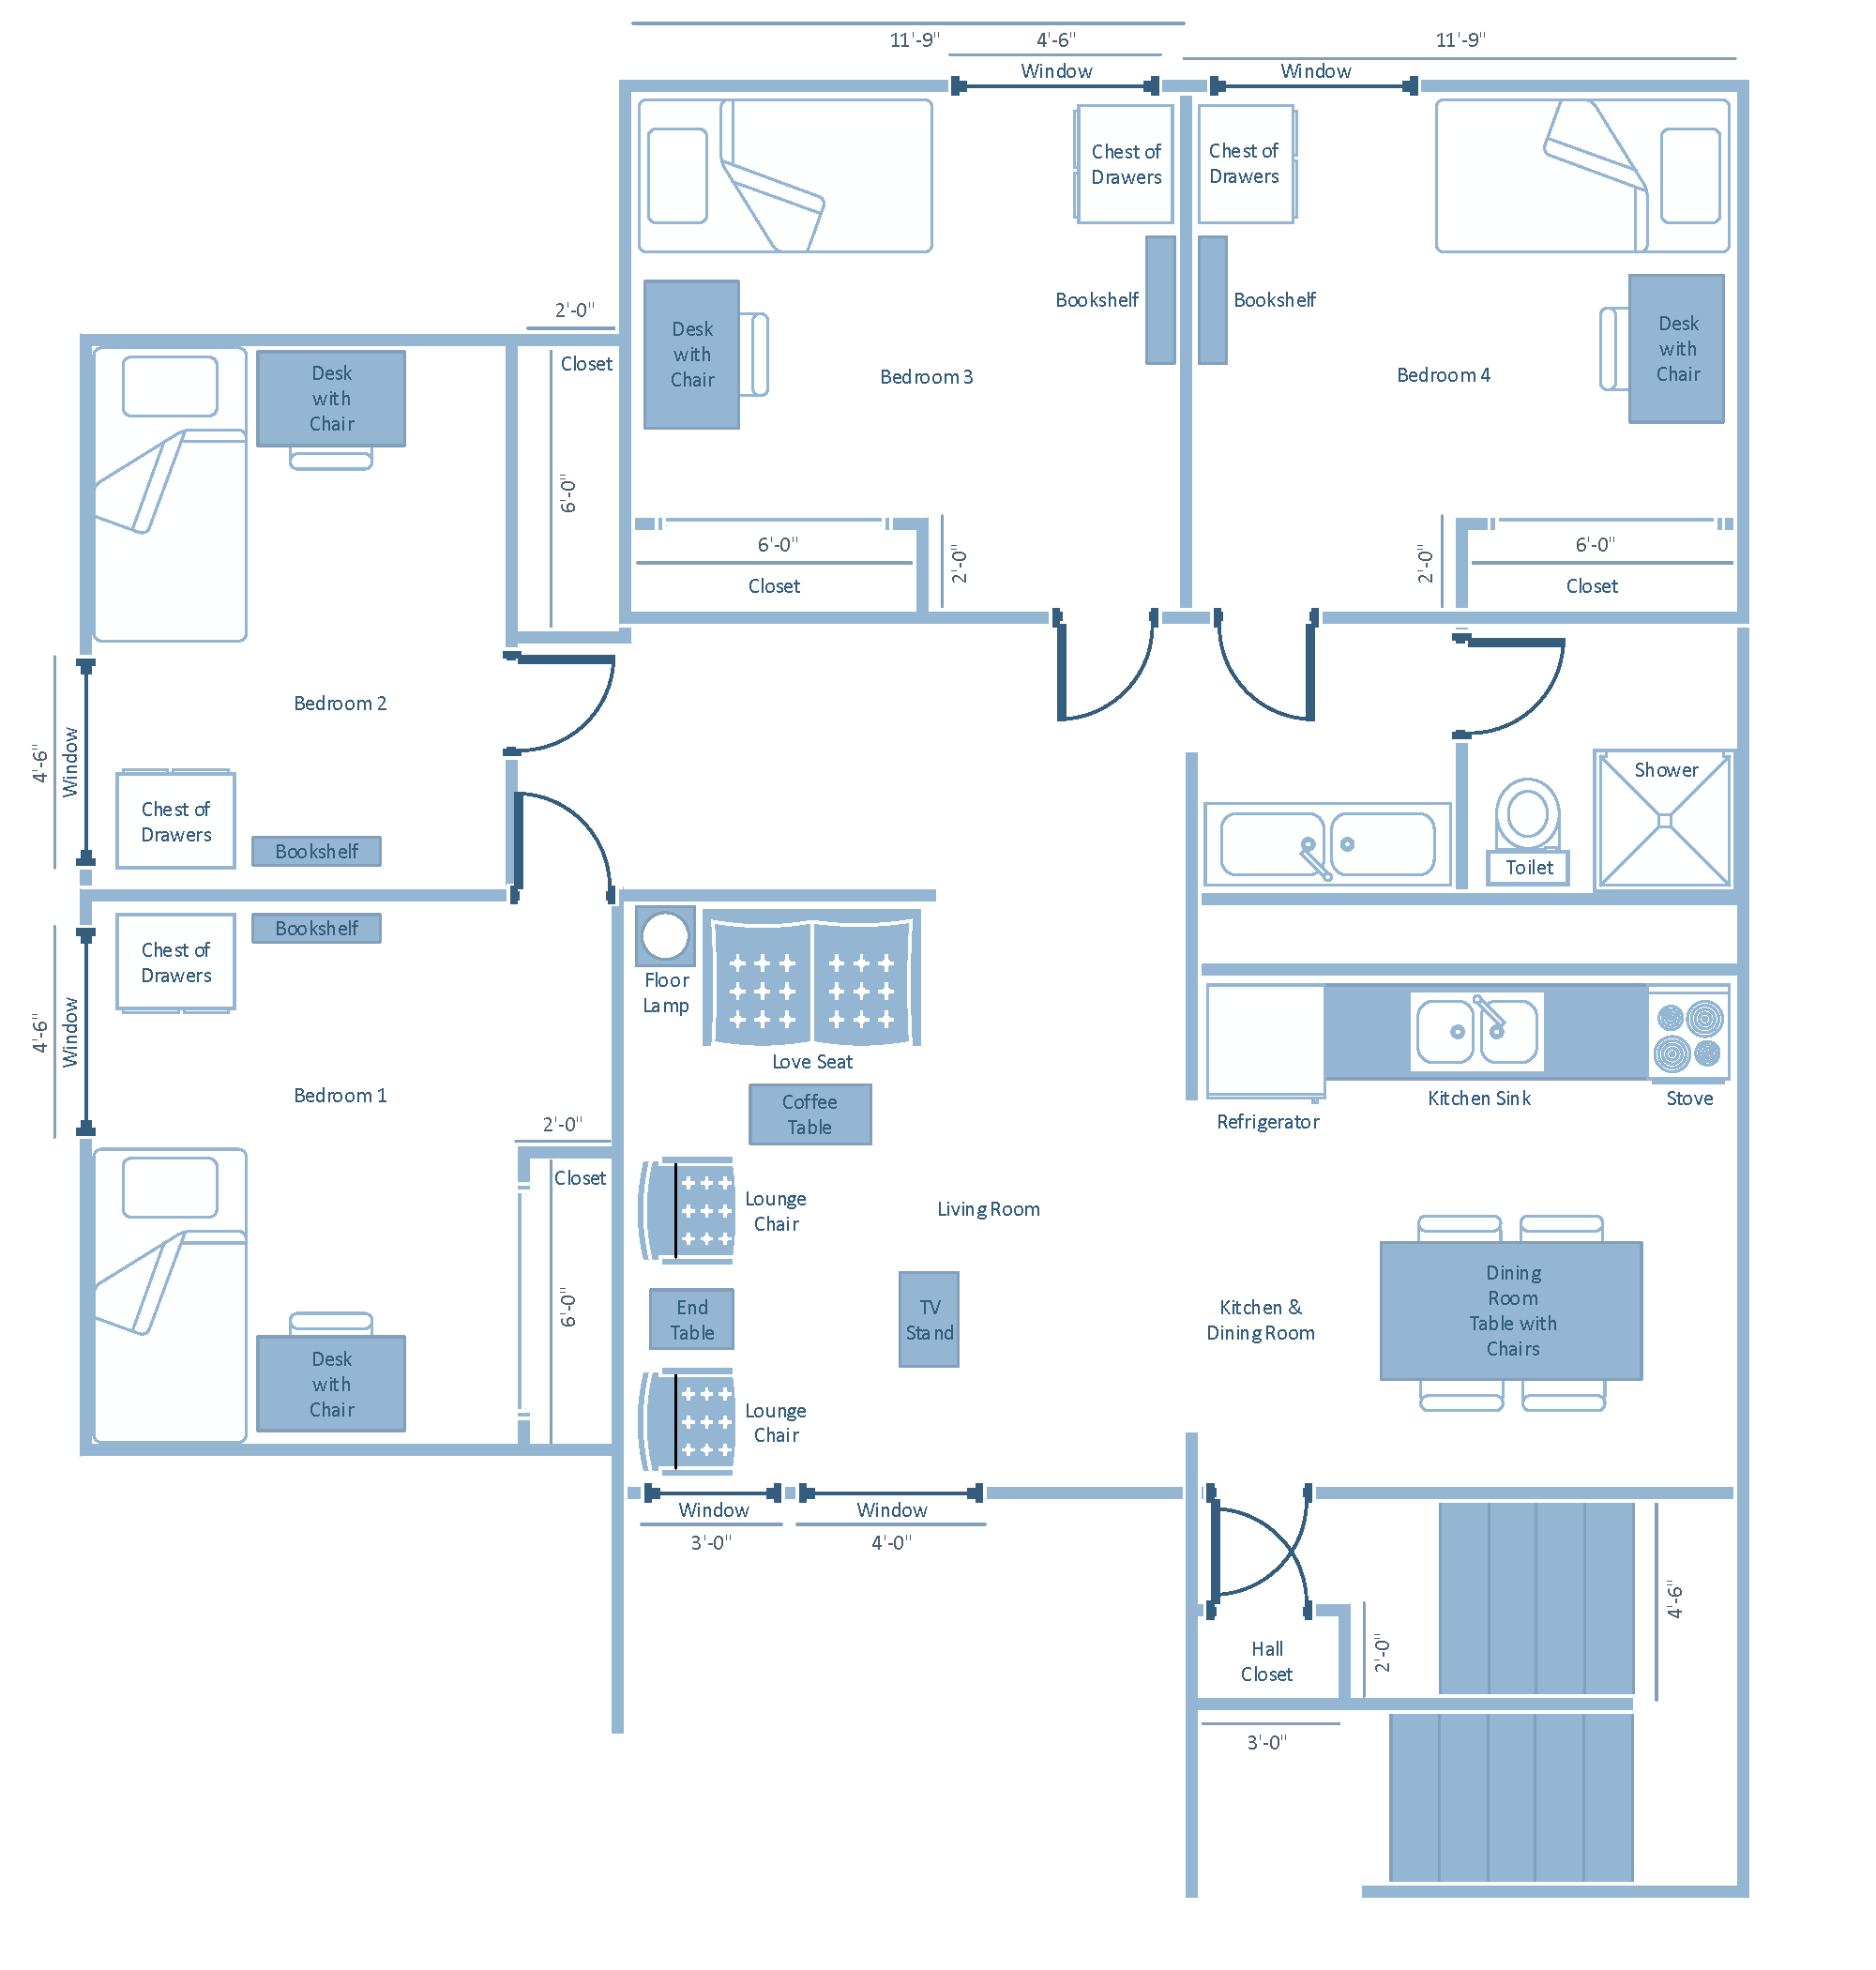room: (619, 886, 1206, 1502), (1189, 885, 1756, 1502), (79, 885, 628, 1467), (1171, 77, 1753, 624), (617, 79, 1196, 624), (77, 327, 527, 897)
